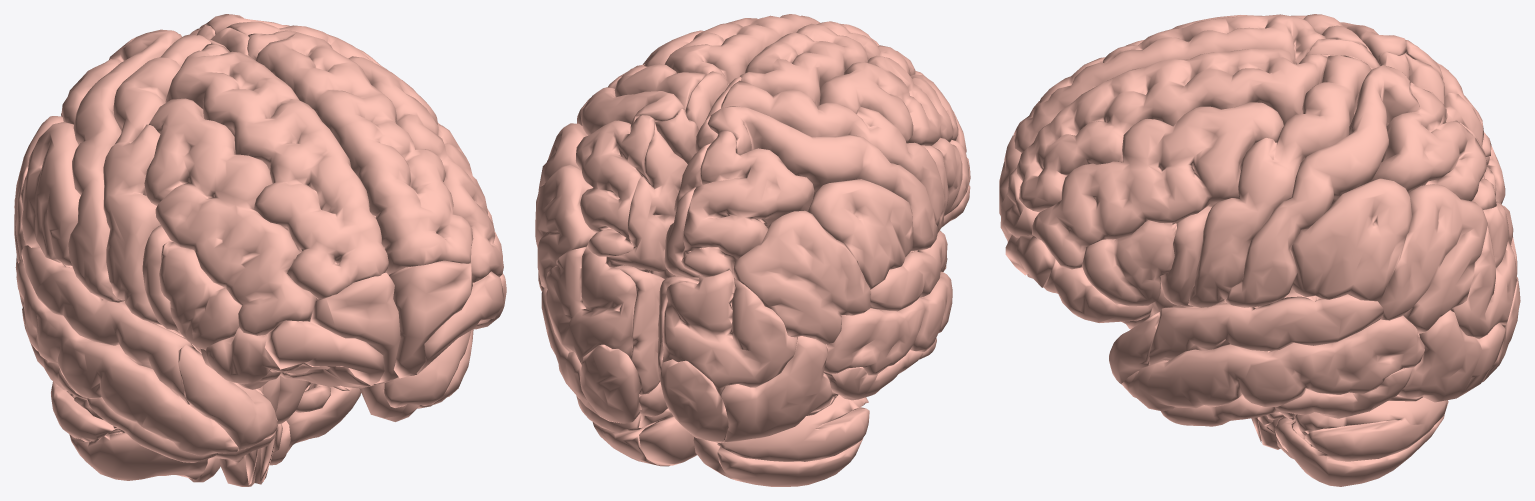
The model's file is allen_f_brain-20.glb.
3 views of the same model, side by side, from view 1: azimuth 30°, elevation 25°; view 2: azimuth 150°, elevation 25°; view 3: azimuth 270°, elevation 25° (orthographic). The views are drawn at different scales.
Visible parts, largest first — view 1: Allen_superior_frontal_gyrus_L, Allen_middle_frontal_gyrus_L, Allen_superior_frontal_gyrus_R, Allen_middle_temporal_gyrus_L, Allen_precentral_gyrus_L, Allen_postcentral_gyrus_L, Allen_superior_temporal_gyrus_L, Allen_middle_frontal_gyrus_R, Allen_supramarginal_gyrus_L, Allen_rostral_gyrus_R, Allen_lateral_hemisphere_of_cerebellum_L, Allen_inferior_frontal_gyrus_triangular_part_L (+19 smaller); view 2: Allen_supraparietal_lobule_L, Allen_angular_gyrus_L, Allen_superior_occipital_gyrus_L, Allen_postcentral_gyrus_L, Allen_lateral_hemisphere_of_cerebellum_L, Allen_superior_occipital_gyrus_R, Allen_supraparietal_lobule_R, Allen_precentral_gyrus_L, Allen_supramarginal_gyrus_L, Allen_middle_frontal_gyrus_L, Allen_superior_frontal_gyrus_L, Allen_middle_temporal_gyrus_L (+24 smaller); view 3: Allen_middle_frontal_gyrus_R, Allen_superior_frontal_gyrus_R, Allen_middle_temporal_gyrus_R, Allen_precentral_gyrus_R, Allen_postcentral_gyrus_R, Allen_supramarginal_gyrus_R, Allen_angular_gyrus_R, Allen_superior_temporal_gyrus_R, Allen_lateral_hemisphere_of_cerebellum_R, Allen_superior_frontal_gyrus_L, Allen_supraparietal_lobule_R, Allen_inferior_frontal_gyrus_triangular_part_R (+16 smaller).
Boxes of the visible parts, x1,y1,x2,y2 form: Allen_superior_frontal_gyrus_L: (165,43,388,300); Allen_middle_frontal_gyrus_L: (144,98,316,335); Allen_superior_frontal_gyrus_R: (247,30,473,273); Allen_middle_temporal_gyrus_L: (16,260,239,455); Allen_precentral_gyrus_L: (103,34,210,324); Allen_postcentral_gyrus_L: (68,29,181,302); Allen_superior_temporal_gyrus_L: (21,245,195,404); Allen_middle_frontal_gyrus_R: (348,56,503,282); Allen_supramarginal_gyrus_L: (21,122,80,265); Allen_rostral_gyrus_R: (389,260,472,378); Allen_lateral_hemisphere_of_cerebellum_L: (51,381,207,480); Allen_inferior_frontal_gyrus_triangular_part_L: (159,241,241,350); Allen_supraparietal_lobule_L: (681,130,814,277); Allen_angular_gyrus_L: (733,210,870,344); Allen_superior_occipital_gyrus_L: (662,270,797,394); Allen_postcentral_gyrus_L: (707,106,938,251); Allen_lateral_hemisphere_of_cerebellum_L: (717,394,869,486); Allen_superior_occipital_gyrus_R: (546,245,636,365); Allen_supraparietal_lobule_R: (576,115,654,256); Allen_precentral_gyrus_L: (721,80,945,232); Allen_supramarginal_gyrus_L: (807,179,913,289); Allen_middle_frontal_gyrus_L: (819,55,966,152); Allen_superior_frontal_gyrus_L: (740,21,926,106); Allen_middle_temporal_gyrus_L: (824,271,952,375); Allen_middle_frontal_gyrus_R: (1032,102,1283,269); Allen_superior_frontal_gyrus_R: (1016,49,1327,212); Allen_middle_temporal_gyrus_R: (1122,315,1424,411); Allen_precentral_gyrus_R: (1188,55,1371,307); Allen_postcentral_gyrus_R: (1224,65,1419,307); Allen_supramarginal_gyrus_R: (1290,178,1411,301); Allen_angular_gyrus_R: (1378,184,1487,333); Allen_superior_temporal_gyrus_R: (1147,294,1383,366); Allen_lateral_hemisphere_of_cerebellum_R: (1266,397,1448,486); Allen_superior_frontal_gyrus_L: (1013,14,1325,152); Allen_supraparietal_lobule_R: (1370,82,1496,209); Allen_inferior_frontal_gyrus_triangular_part_R: (1082,220,1176,306).
Size of the model in its own units: 0.136 by 0.1459 by 0.1668.
